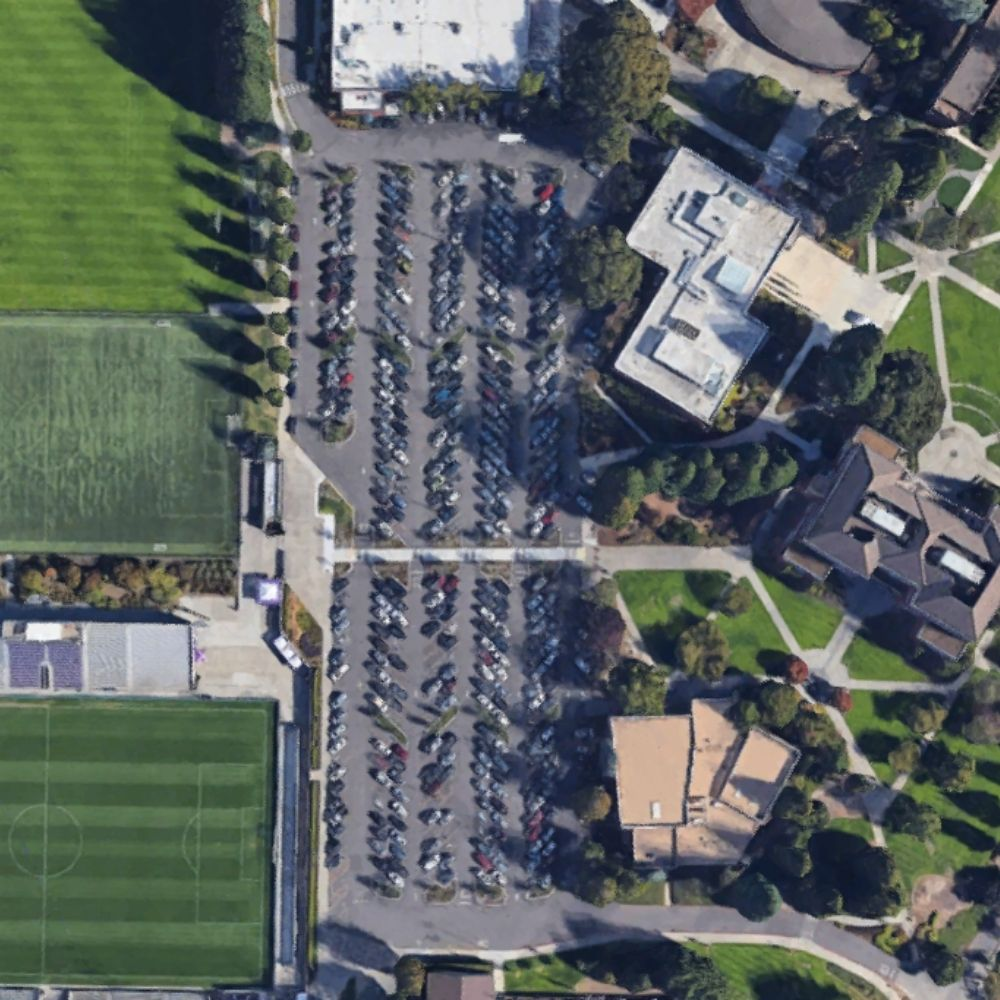parking: (285, 115, 600, 945)
